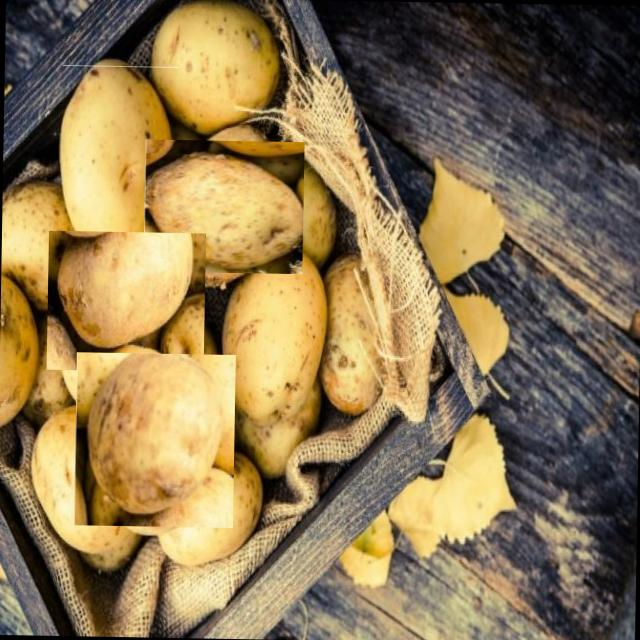potato: (74, 350, 235, 528), (60, 65, 178, 262), (45, 229, 206, 372), (150, 133, 298, 281)
